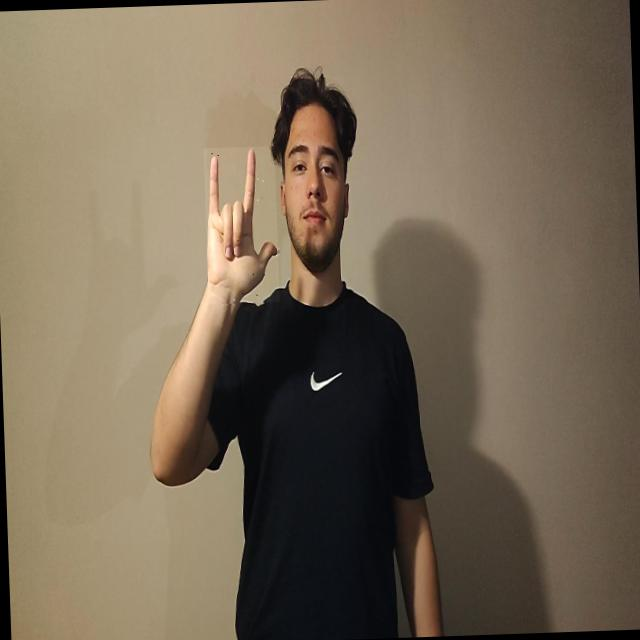iloveyou: (203, 146, 280, 304)
